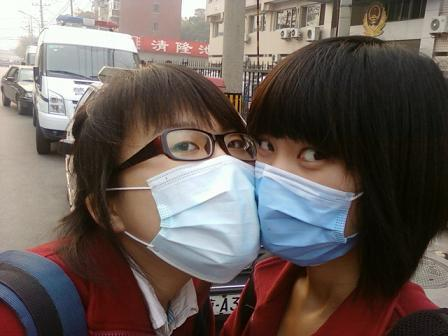OK: (124, 127, 262, 265), (256, 128, 373, 262)
